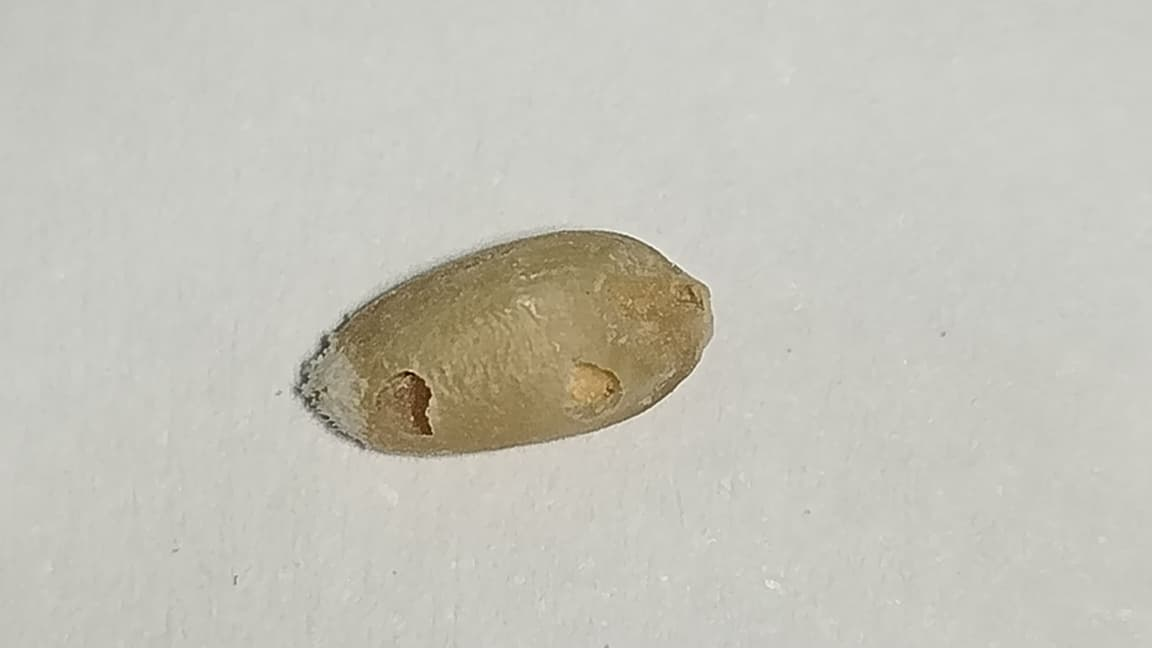damage: (306, 230, 711, 452)
insectdamage: (333, 326, 465, 435), (533, 335, 647, 428)
